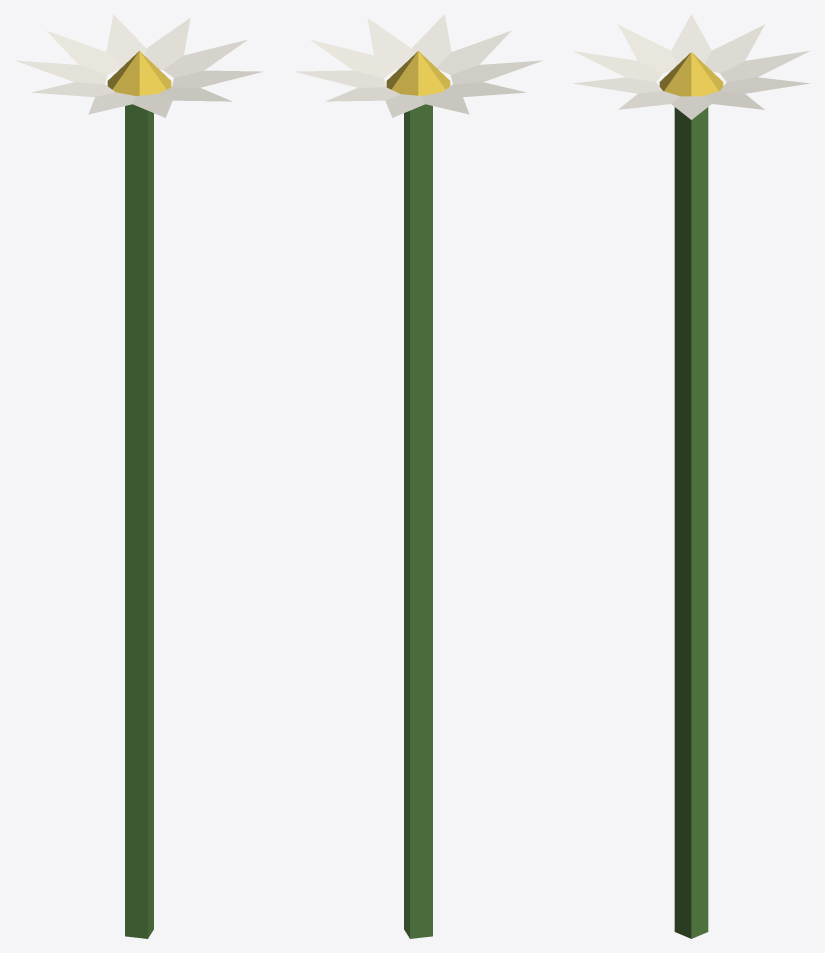
File: daisy.glb
3 renders of one model, left to right at view 1: azimuth 30°, elevation 25°; view 2: azimuth 150°, elevation 25°; view 3: azimuth 270°, elevation 25°, orthographic.
Parts seen in each view (by area): view 1: Daisy; view 2: Daisy; view 3: Daisy.
Part boxes in pixels (left/top/right/bottom): Daisy: left=14, top=14, right=263, bottom=938; Daisy: left=294, top=14, right=543, bottom=938; Daisy: left=572, top=14, right=810, bottom=938.
Size of the model in its own units: 0.15 by 0.58 by 0.1427.
